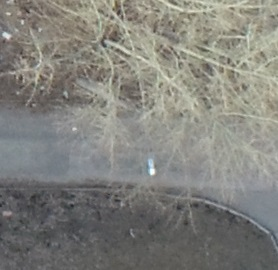opora: (76, 77, 156, 178)
